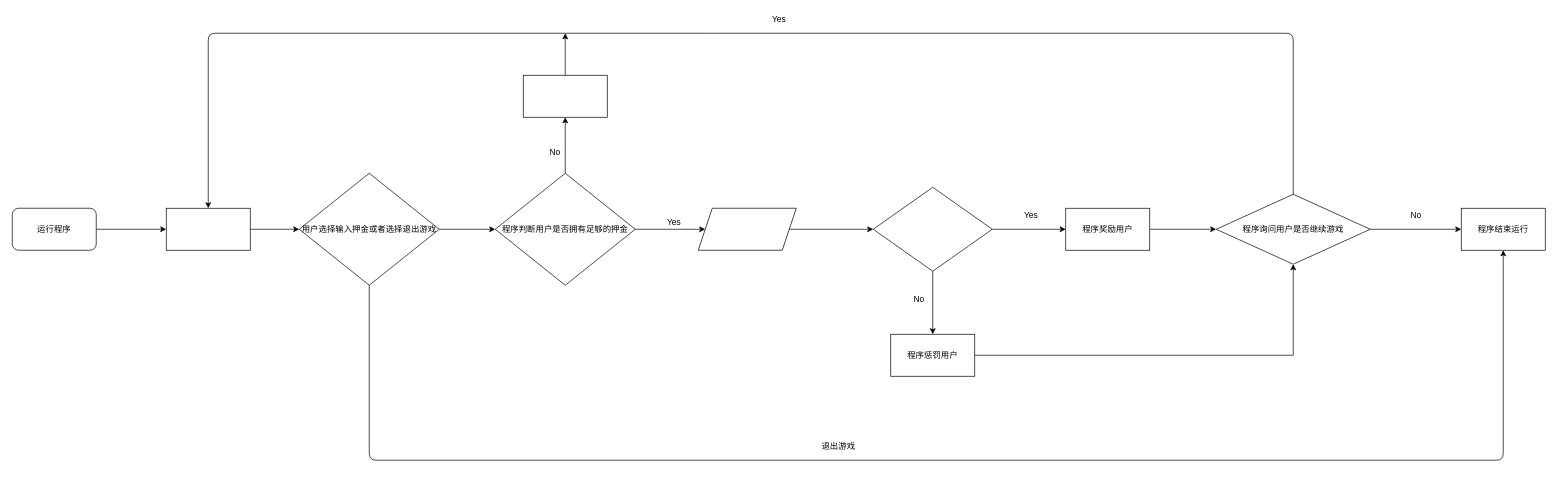
Some shapes in this 1558 by 478 pixel diagram are drawn without their labels. Here are the shapes that lost their labels. From the top down, the centre of each, then its label:
point 565,96: 程序提示用户缺乏足够多的押金
point 208,229: 程序生成两个随机数、并计算两个随机数的和
point 747,229: 用户输入自己的猜测
point 932,229: 程序判断用户是否猜测正确
